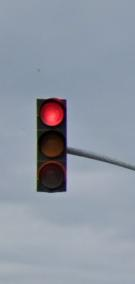redlight: (36, 99, 68, 194)
